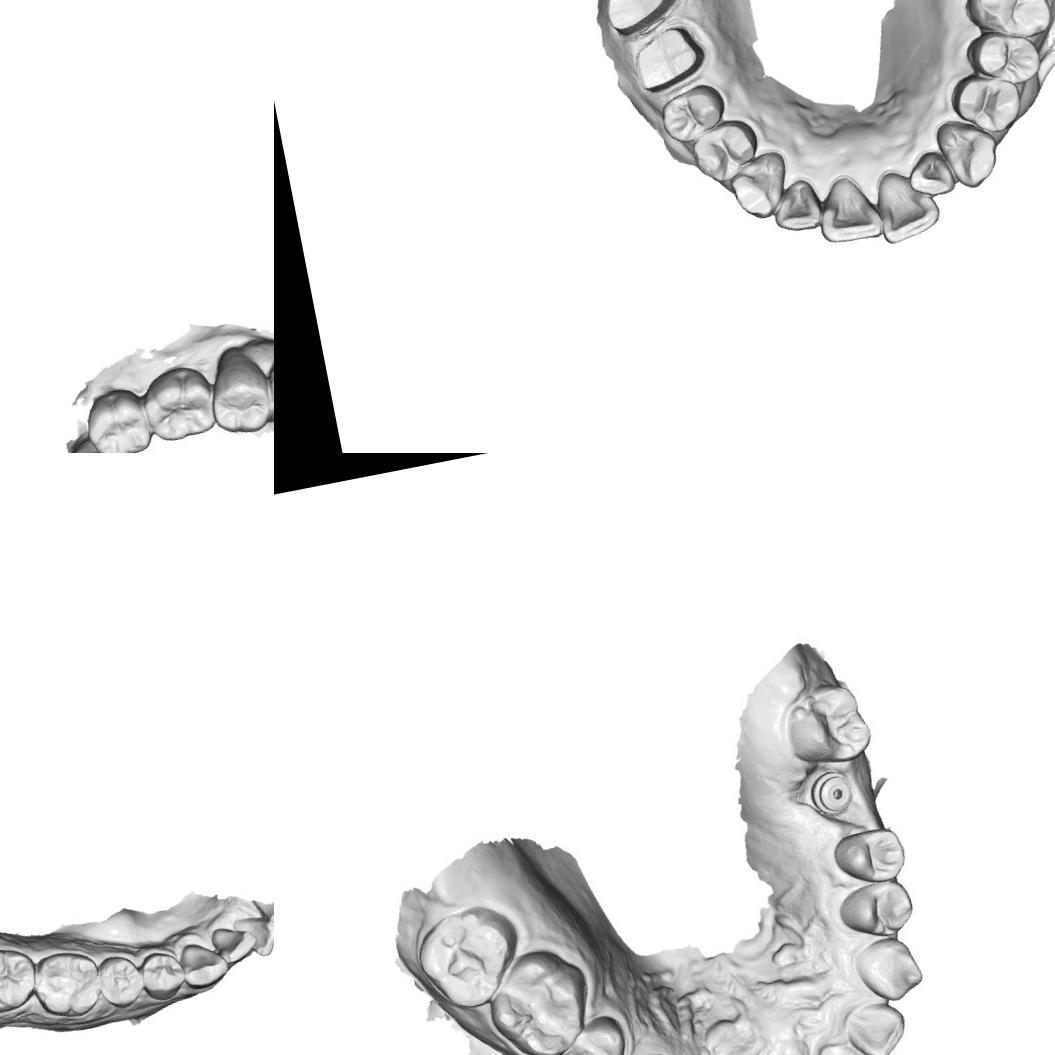canine: (847, 930, 929, 1011), (932, 112, 1004, 193), (723, 147, 795, 224), (177, 936, 232, 992)
crown: (625, 18, 712, 94), (597, 0, 685, 38)
implant: (802, 766, 862, 829)
incisor: (870, 162, 944, 246), (810, 170, 886, 248), (839, 996, 910, 1055), (768, 175, 825, 236), (902, 146, 958, 202), (208, 918, 260, 968), (230, 909, 274, 963), (817, 1033, 888, 1055)
molar: (410, 898, 524, 1016), (483, 948, 599, 1055), (774, 672, 882, 774), (142, 360, 218, 441), (27, 945, 105, 1023), (83, 380, 156, 453), (955, 0, 1055, 48), (0, 939, 42, 1017)
premolar: (203, 343, 274, 434), (945, 64, 1027, 141), (828, 875, 918, 944), (827, 819, 914, 890), (685, 113, 764, 188), (962, 22, 1044, 91), (654, 79, 730, 146), (550, 1010, 636, 1055), (92, 950, 148, 1012), (136, 946, 189, 1006), (259, 344, 274, 437)
